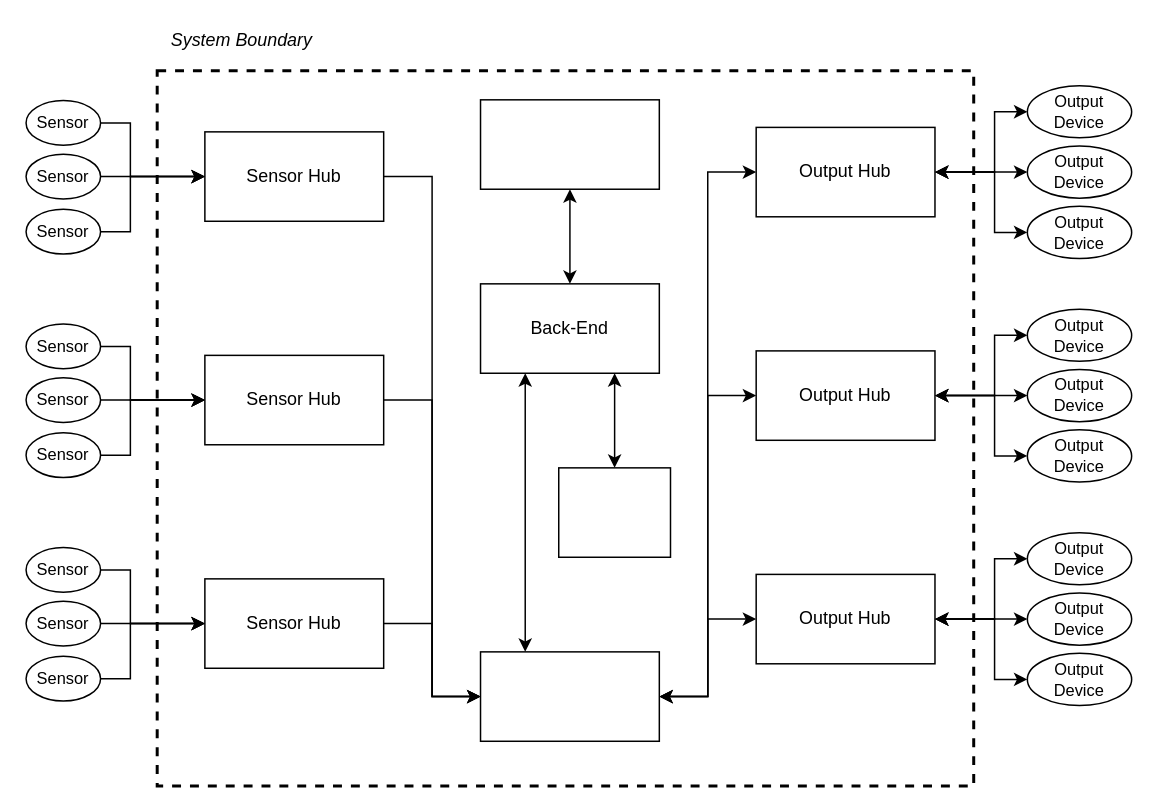
Image size: 1158x812. Some labels were removed from this diagram. The centre of each missing label's shape, as x and y in pixels:
"Client" goes at [569,143].
"Database" goes at [613,511].
"I/O Core" goes at [569,695].
